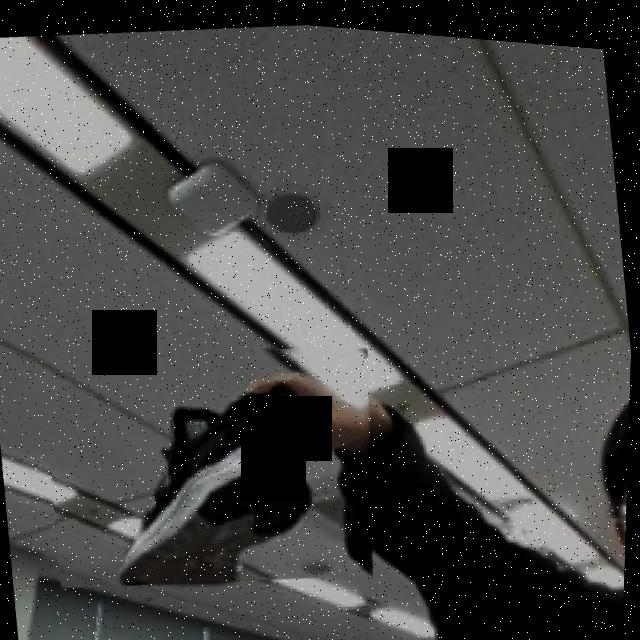shoe: (35, 307, 396, 607)
